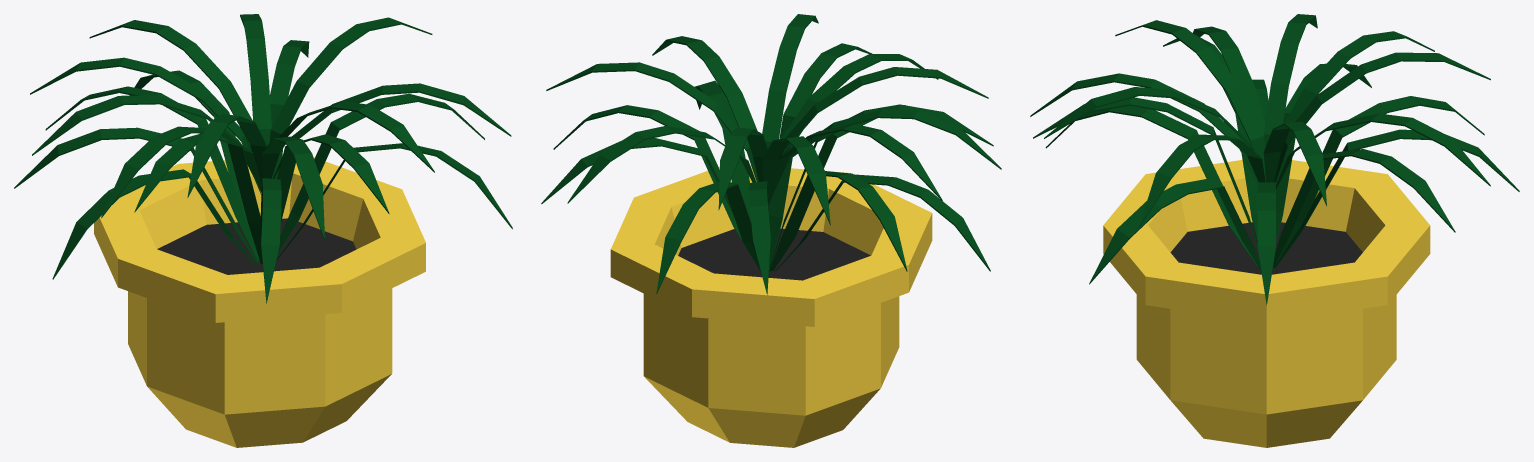
File: Plant_Kitchen_Plant2_231109.glb
The picture shows the model from 3 angles, left to right: view 1: azimuth 30°, elevation 25°; view 2: azimuth 150°, elevation 25°; view 3: azimuth 270°, elevation 25°; orthographic projection. The views are drawn at different scales.
Parts seen in each view (by area): view 1: Kitchen_Plant2; view 2: Kitchen_Plant2; view 3: Kitchen_Plant2.
Boxes of the visible parts, x1,y1,x2,y2 form: Kitchen_Plant2: [14, 14, 512, 447]; Kitchen_Plant2: [541, 14, 1001, 447]; Kitchen_Plant2: [1030, 14, 1519, 447].
Size of the model in its own units: 0.2962 by 0.2187 by 0.2851.
Materials: 1 (1 with a texture image).
